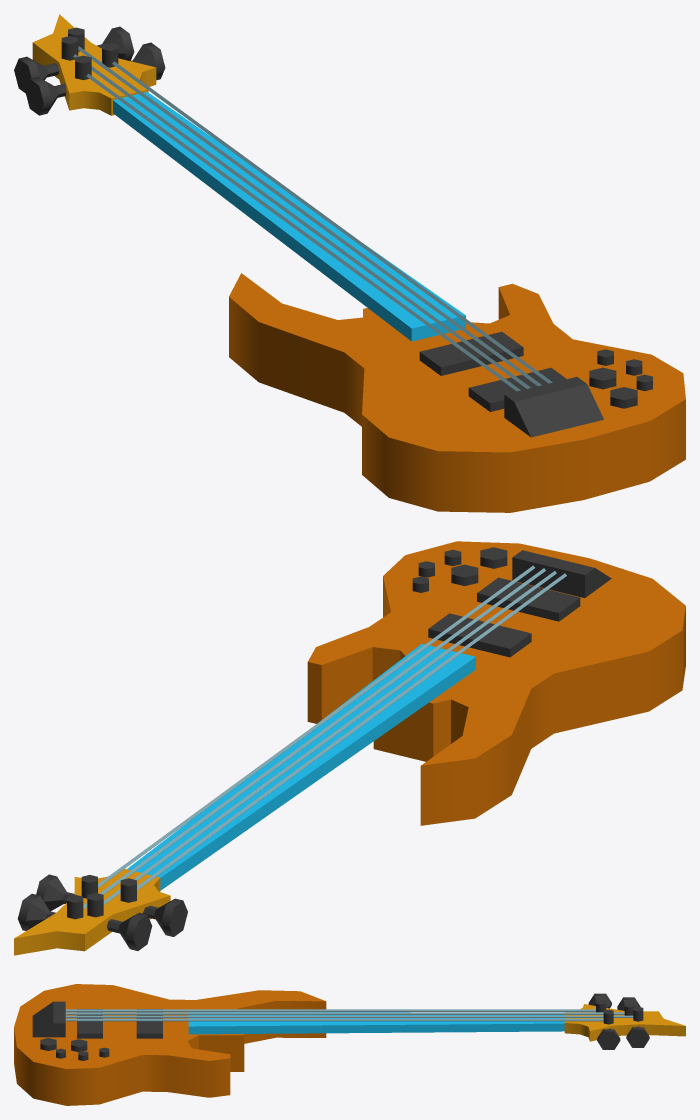
File: Guitar.glb
3 renders of one model, top to bottom at view 1: azimuth 30°, elevation 25°; view 2: azimuth 150°, elevation 25°; view 3: azimuth 270°, elevation 25°, orthographic. The views are drawn at different scales.
Parts seen in each view (by area): view 1: Line021_orange_0, Line021_black_0, Line021_blue_0, Line021_metal_0, Line021_yellow_0; view 2: Line021_orange_0, Line021_black_0, Line021_blue_0, Line021_metal_0, Line021_yellow_0; view 3: Line021_orange_0, Line021_metal_0, Line021_blue_0, Line021_black_0, Line021_yellow_0.
Part boxes in pixels (x1,y1,x2,y2): Line021_orange_0: (229, 273, 685, 512); Line021_black_0: (14, 26, 652, 437); Line021_blue_0: (113, 92, 465, 341); Line021_metal_0: (73, 46, 552, 391); Line021_yellow_0: (32, 14, 156, 115); Line021_orange_0: (307, 541, 685, 825); Line021_black_0: (17, 547, 611, 950); Line021_blue_0: (127, 643, 475, 890); Line021_metal_0: (83, 565, 566, 909); Line021_yellow_0: (14, 869, 170, 955); Line021_orange_0: (14, 984, 326, 1105); Line021_metal_0: (65, 1009, 633, 1021); Line021_blue_0: (188, 1012, 564, 1034); Line021_black_0: (32, 993, 649, 1060); Line021_yellow_0: (564, 1004, 685, 1041).
Size of the model in its own units: 34.76 by 10.65 by 116.
